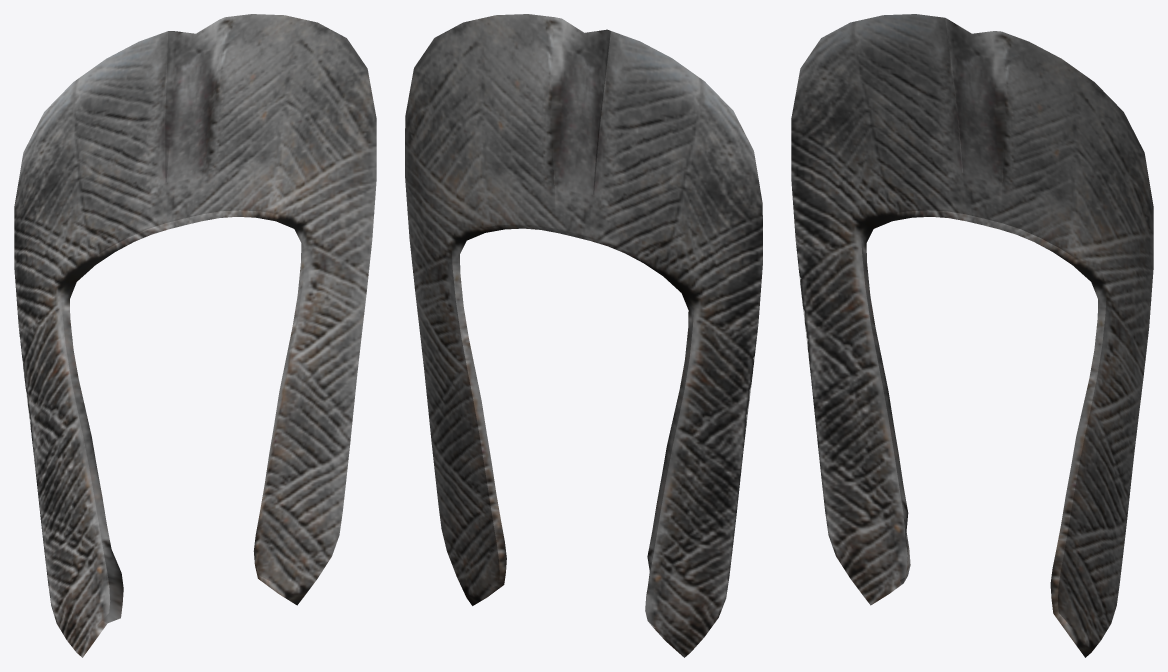
File: mascara valdivia 2 cortada.fbx
3 views of the same model, side by side, from view 1: azimuth 30°, elevation 25°; view 2: azimuth 150°, elevation 25°; view 3: azimuth 330°, elevation 25° (orthographic).
Parts seen in each view (by area): view 1: mascara valdivia 2; view 2: mascara valdivia 2; view 3: mascara valdivia 2.
Boxes of the visible parts, box(x1,y1,x2,y2) form: mascara valdivia 2: box(14, 14, 376, 657); mascara valdivia 2: box(405, 14, 762, 657); mascara valdivia 2: box(791, 14, 1153, 657).
Bounding box in the file's own units: 22.41 × 1.33 × 36.14.
